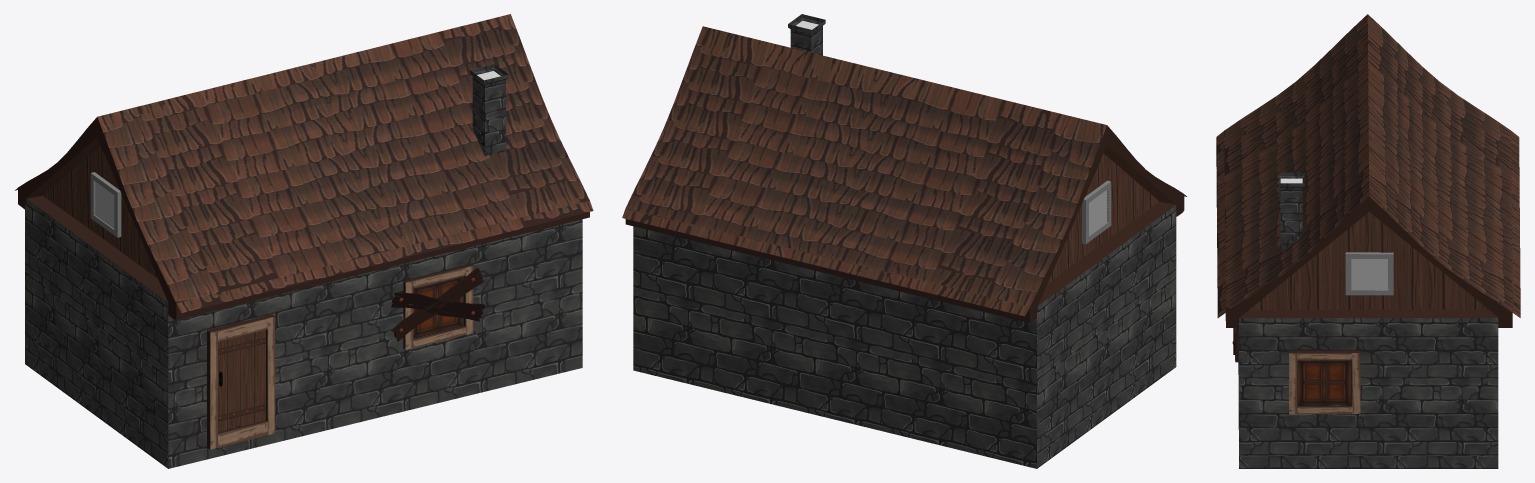
File: Farmer House + Textures FINISH FIXED.fbx
3 renders of one model, left to right at view 1: azimuth 30°, elevation 25°; view 2: azimuth 150°, elevation 25°; view 3: azimuth 270°, elevation 25°, orthographic. The views are drawn at different scales.
Visible parts, largest first — view 1: ROOF, front wall, side walls, part of the roof, window border front, door, roof side, chimney, air things, wood around windows n door, wood 2, WOOD 1 (+1 smaller); view 2: ROOF, back wall, side walls, part of the roof, roof side, air things, chimney; view 3: ROOF, side walls, roof side, part of the roof, window "glass", air things, window border front, chimney, wood around windows n door.
Part boxes in pixels (left/top/right/bottom): ROOF: left=15, top=14, right=593, bottom=312; front wall: left=168, top=219, right=582, bottom=468; side walls: left=25, top=198, right=168, bottom=468; part of the roof: left=18, top=117, right=589, bottom=319; window border front: left=210, top=266, right=473, bottom=449; door: left=218, top=330, right=265, bottom=431; roof side: left=43, top=146, right=157, bottom=278; chimney: left=470, top=64, right=508, bottom=155; air things: left=90, top=172, right=121, bottom=237; wood around windows n door: left=207, top=264, right=473, bottom=449; wood 2: left=391, top=267, right=484, bottom=341; WOOD 1: left=391, top=292, right=485, bottom=321; ROOF: left=622, top=26, right=1186, bottom=316; back wall: left=633, top=226, right=1036, bottom=468; side walls: left=1037, top=205, right=1176, bottom=468; part of the roof: left=625, top=125, right=1184, bottom=323; roof side: left=1047, top=153, right=1159, bottom=283; air things: left=1082, top=180, right=1111, bottom=244; chimney: left=788, top=14, right=825, bottom=55; ROOF: left=1216, top=14, right=1520, bottom=317; side walls: left=1239, top=318, right=1498, bottom=468; roof side: left=1248, top=212, right=1488, bottom=310; part of the roof: left=1225, top=196, right=1512, bottom=327; window "glass": left=1297, top=360, right=1352, bottom=405; air things: left=1345, top=252, right=1393, bottom=295; window border front: left=1235, top=328, right=1360, bottom=414; chimney: left=1279, top=172, right=1304, bottom=251; wood around windows n door: left=1235, top=328, right=1360, bottom=406.
Bounding box in the file's own units: 391 × 267 × 270.
